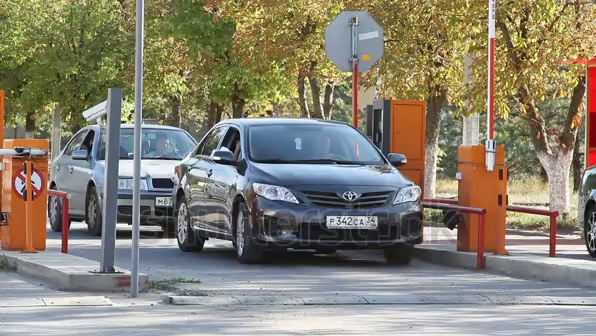licenseplate: (325, 214, 384, 227)
